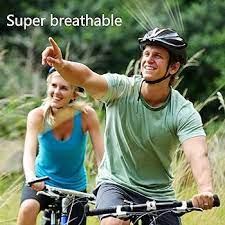helmets: (137, 28, 187, 69)
